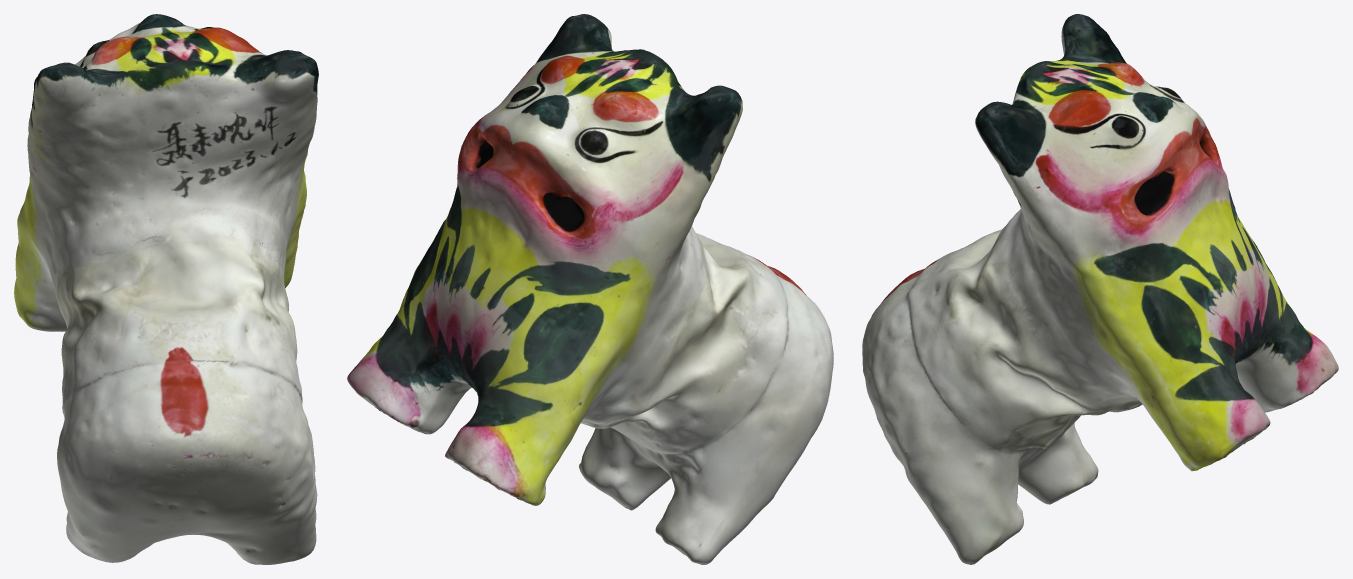
The picture shows the model from 3 angles, left to right: view 1: azimuth 30°, elevation 25°; view 2: azimuth 150°, elevation 25°; view 3: azimuth 270°, elevation 25°; orthographic projection. The views are drawn at different scales.
Bounding box in the file's own units: 0.6866 × 0.9317 × 0.8604.
Materials: 1 (1 with a texture image).
